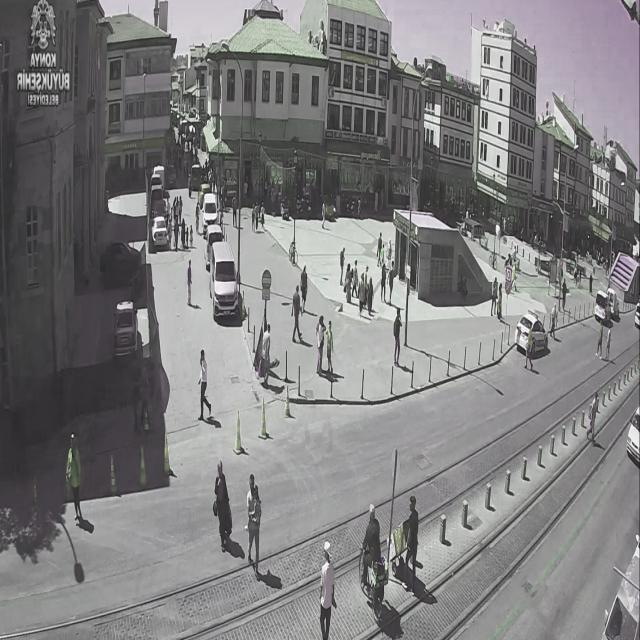Car: (514, 309, 549, 356), (112, 301, 138, 358), (203, 224, 227, 270), (150, 215, 171, 250), (595, 291, 613, 324)
Van: (210, 240, 240, 320)
